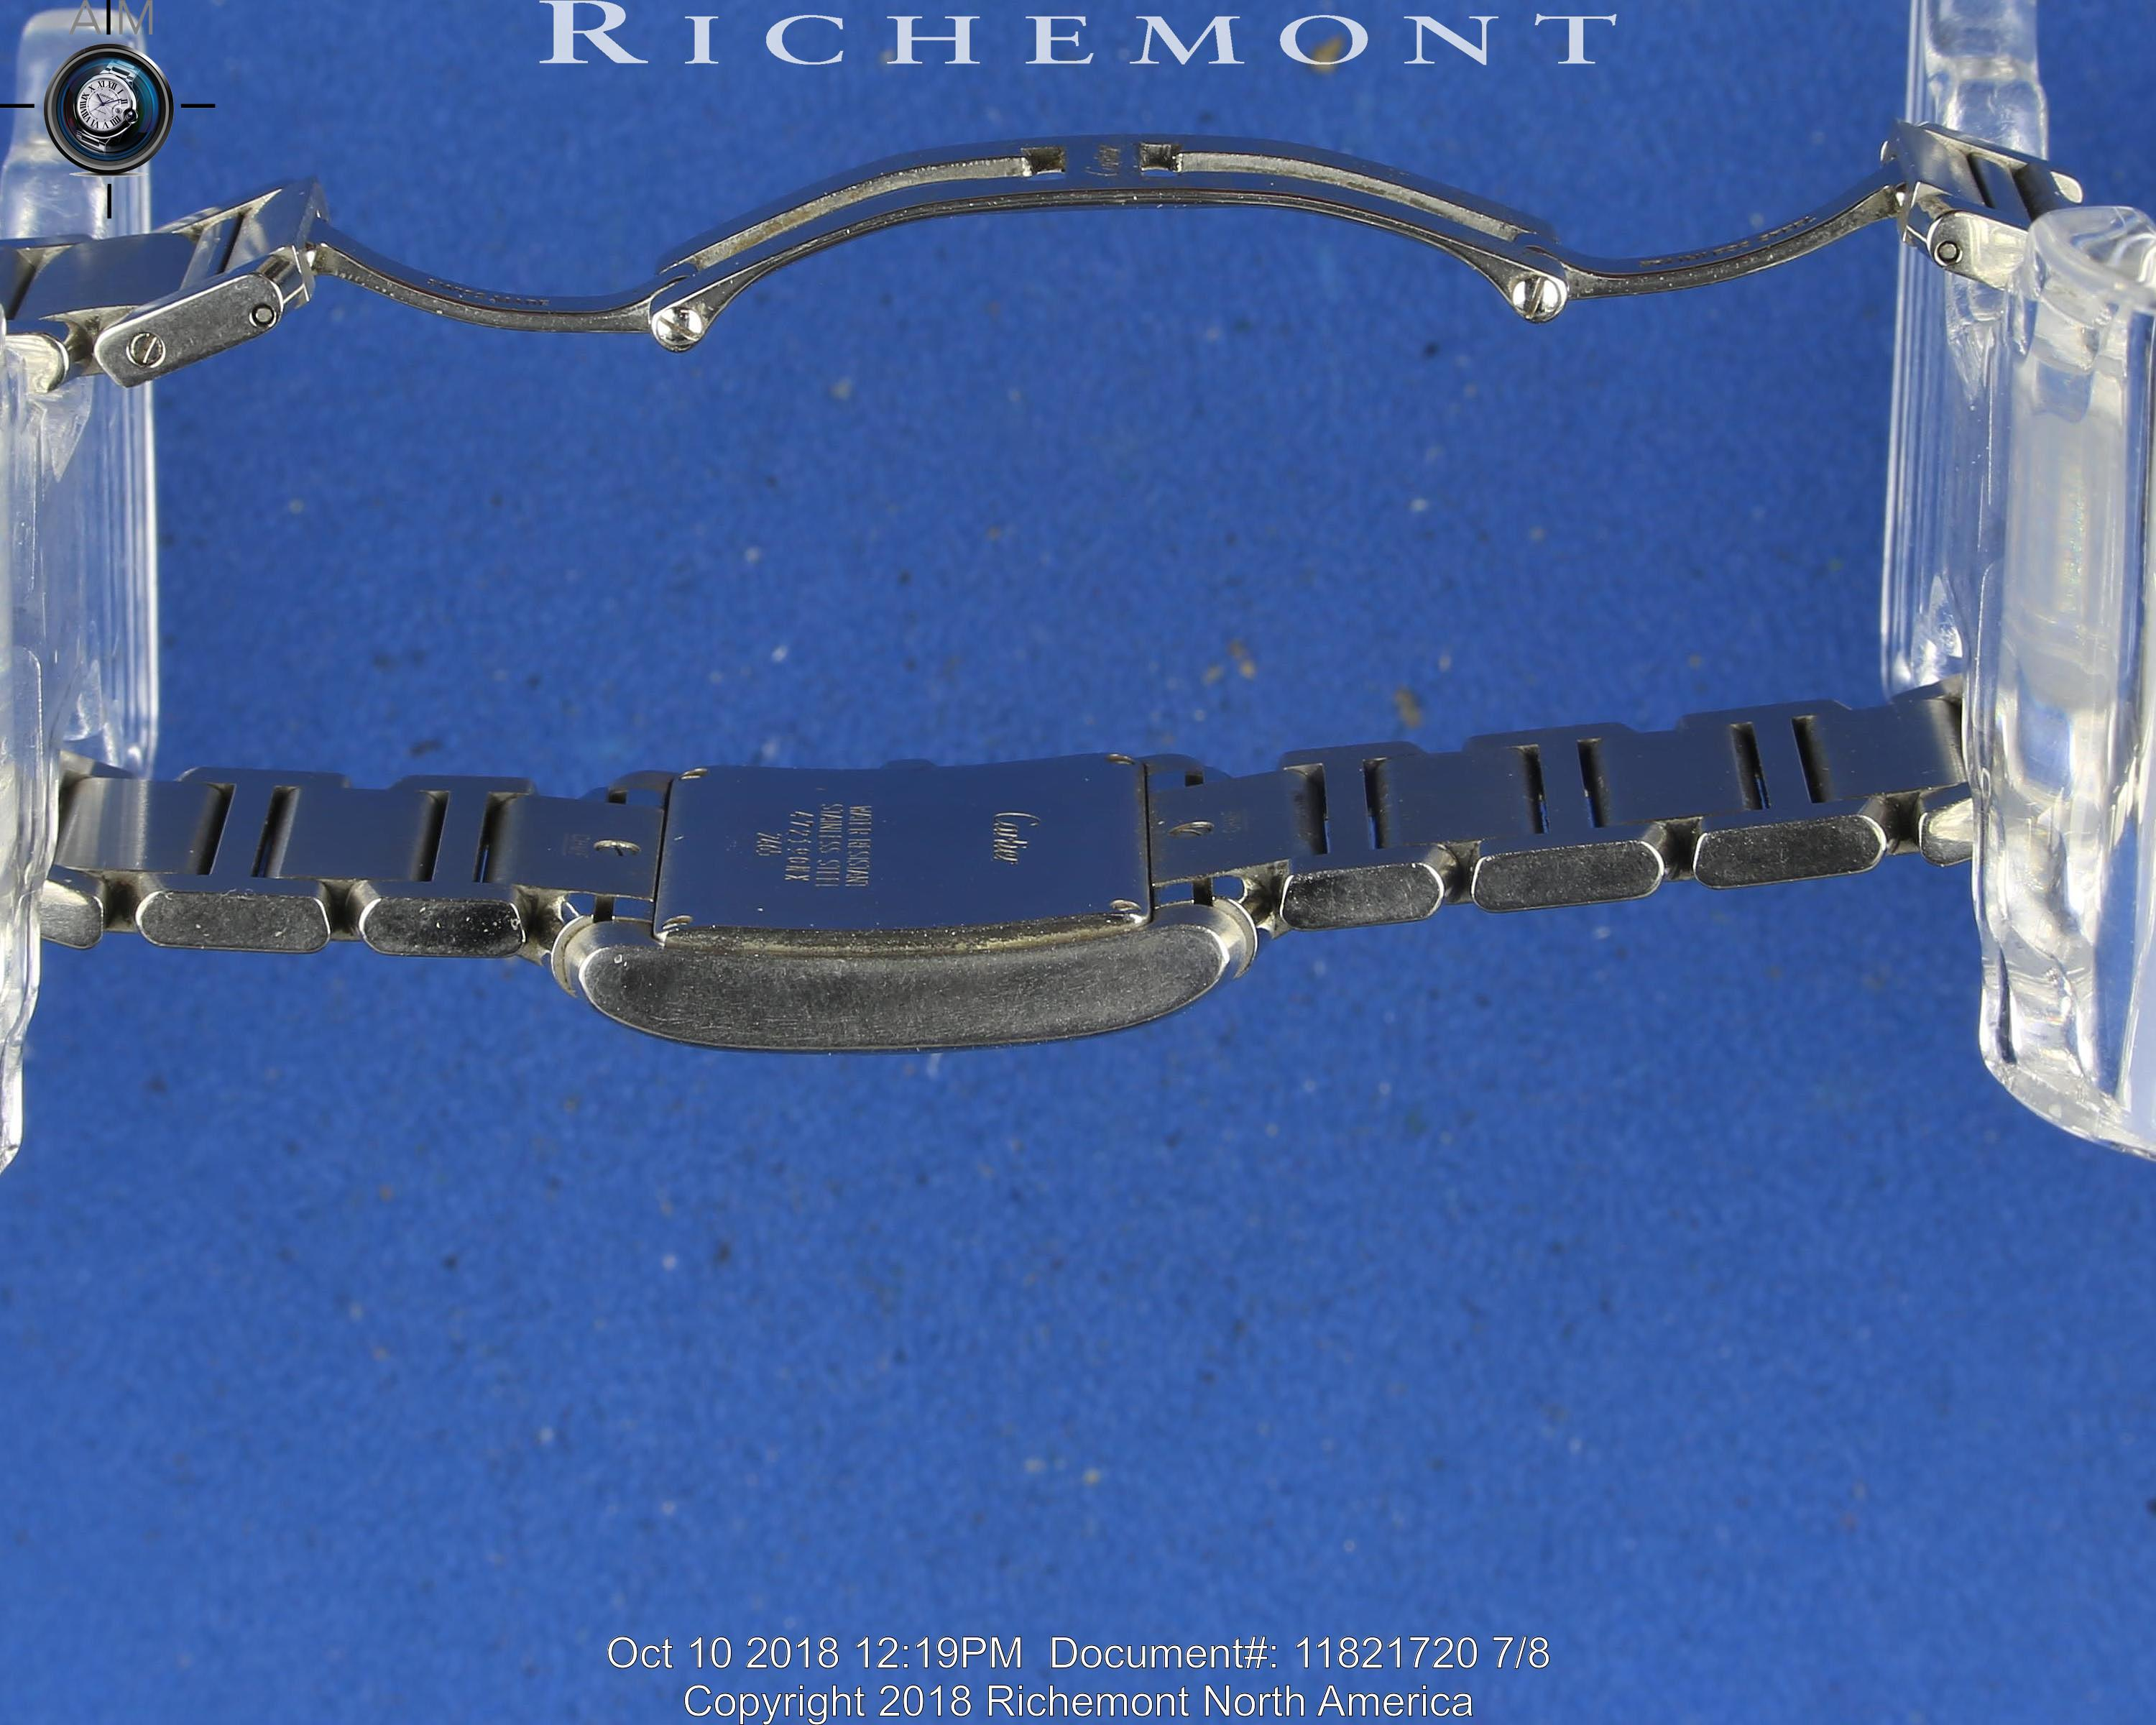watchback: (653, 755, 1148, 943)
